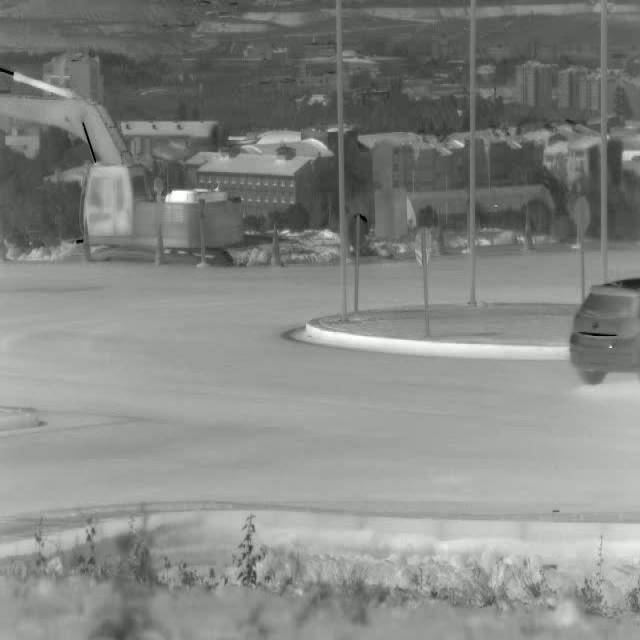Car: (567, 274, 640, 389)
